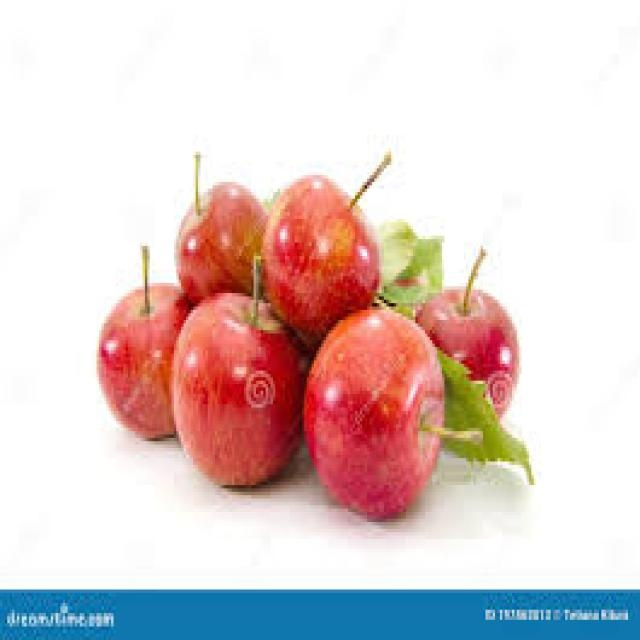agrume: (135, 268, 337, 500), (292, 280, 454, 504), (77, 242, 232, 441), (240, 131, 393, 320), (419, 245, 544, 447), (154, 146, 278, 314)
